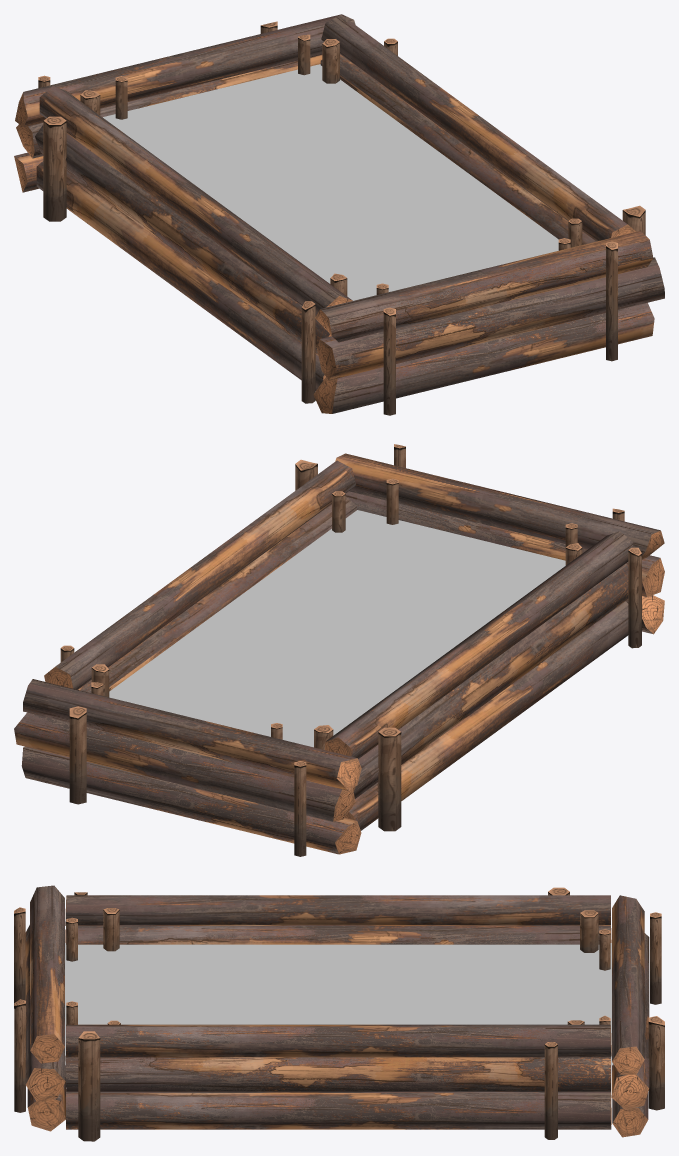
File: raisedBed03.fbx
3 renders of one model, top to bottom at view 1: azimuth 30°, elevation 25°; view 2: azimuth 150°, elevation 25°; view 3: azimuth 270°, elevation 25°, orthographic. The views are drawn at different scales.
Visible parts, largest first — view 1: raisedBed03; view 2: raisedBed03; view 3: raisedBed03.
Part boxes in pixels (left/top/right/bottom): raisedBed03: left=14, top=14, right=664, bottom=415; raisedBed03: left=14, top=444, right=664, bottom=856; raisedBed03: left=14, top=885, right=664, bottom=1141.
Bounding box in the file's own units: 211 × 66.26 × 358.
